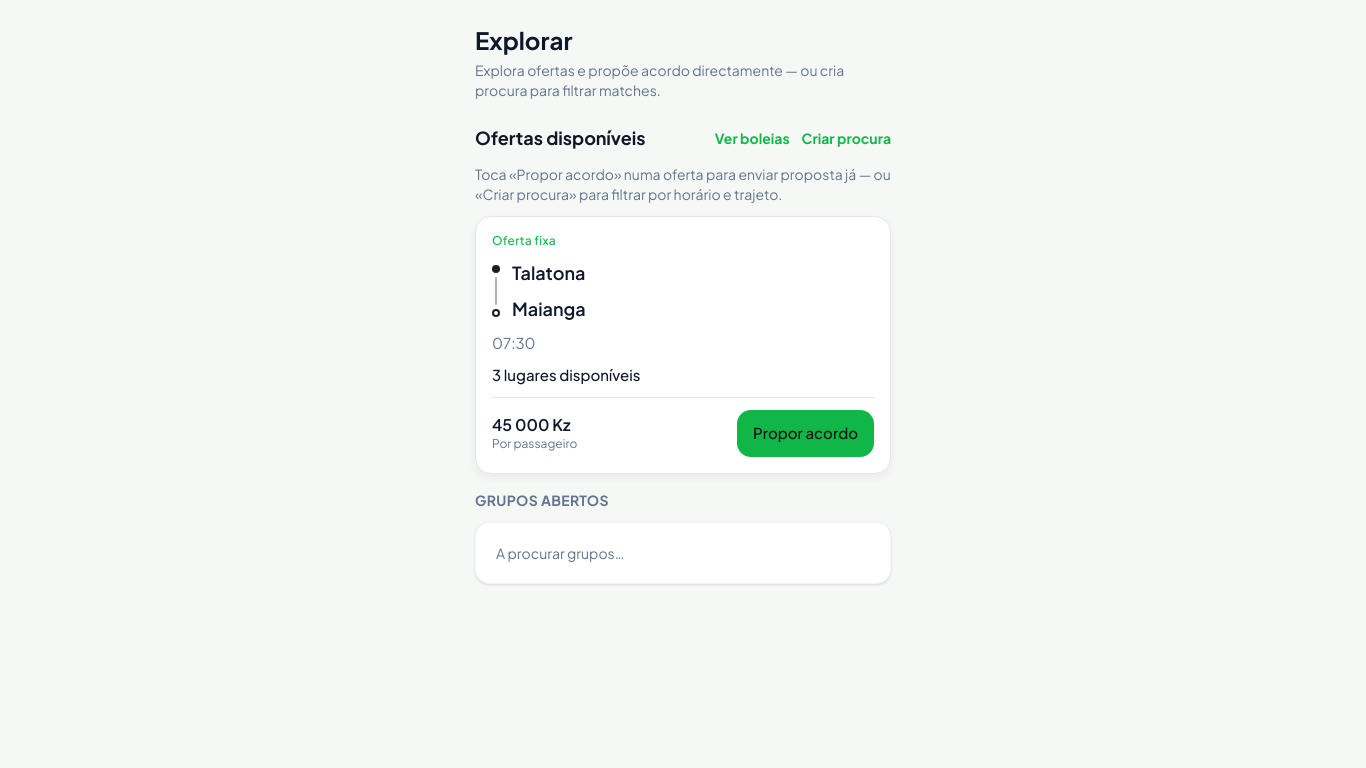
Test: PACOTE ENG #30 — counter-ask preço na proposta › ENG30-1b: abrir o sheet browse não cria proposta antes do envio
This screenshot has width=1366, height=768.
Click the button "Propor acordo" at (806, 433), box [737, 410, 874, 456]
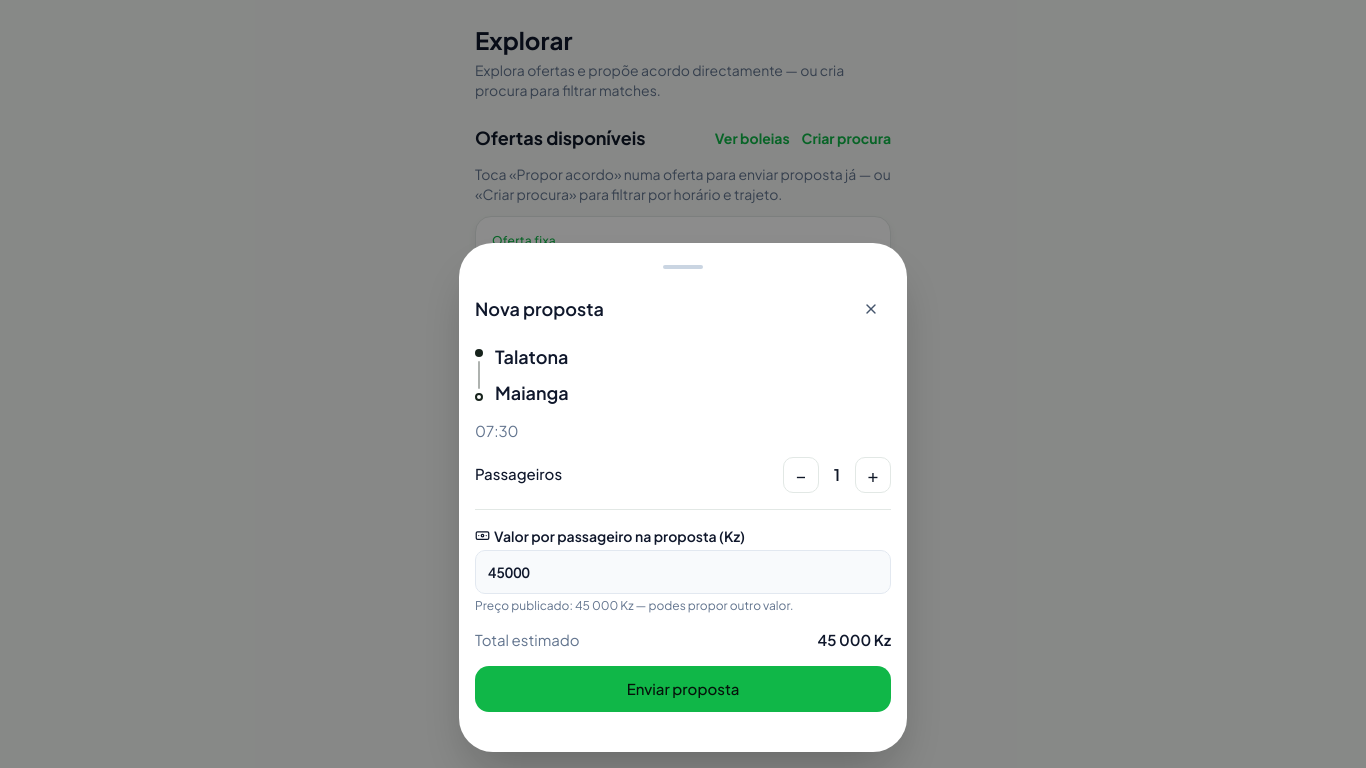
Result: the number field labelled "Valor por passageiro na proposta (Kz)" is shown at [475, 550, 891, 594]
